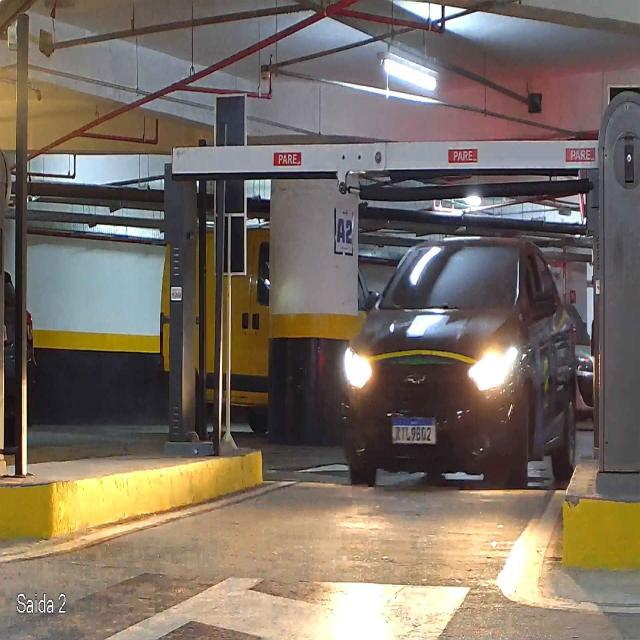mercosul_plate: (391, 416, 438, 445)
